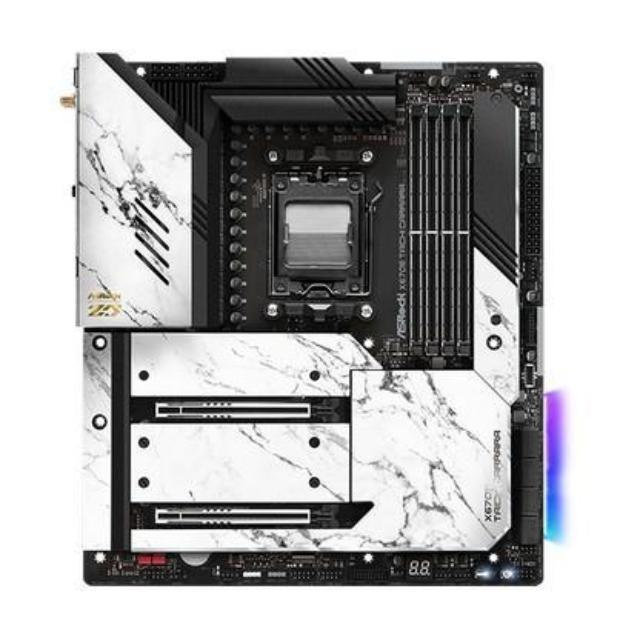Mainboard: (63, 44, 557, 602)
